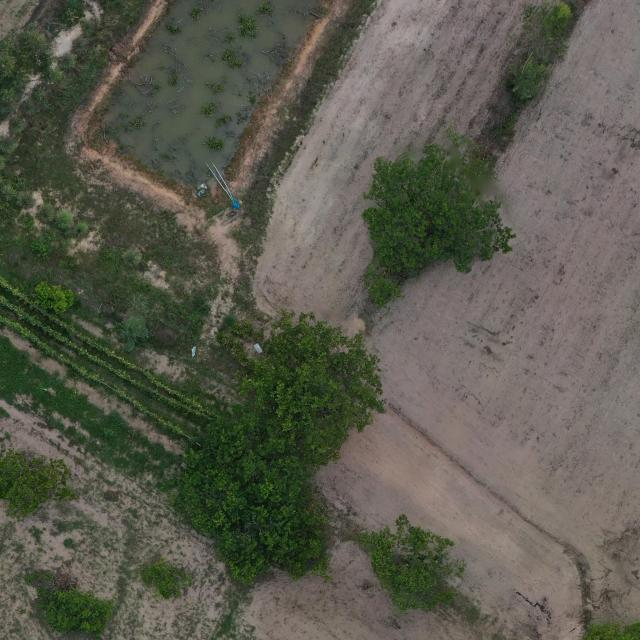tree: (359, 128, 518, 310), (176, 415, 328, 584), (237, 307, 386, 465), (355, 512, 466, 615), (0, 446, 79, 522), (38, 589, 116, 637), (138, 558, 194, 601), (113, 294, 151, 354), (35, 282, 74, 315)
